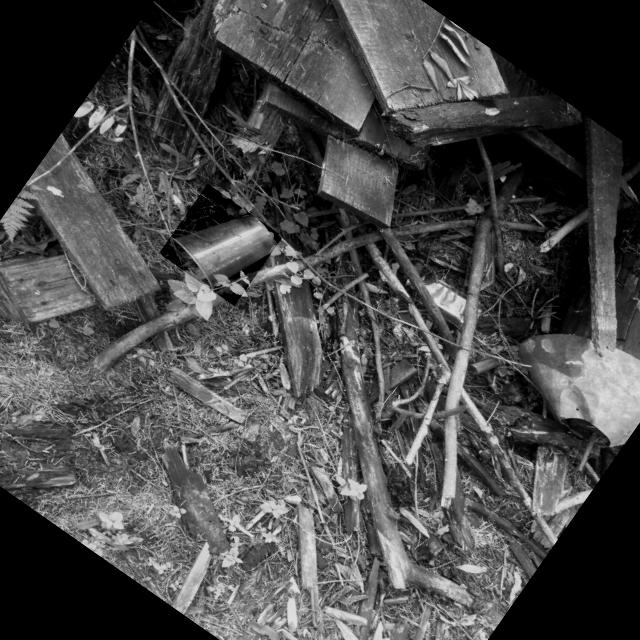Cup: (169, 215, 276, 290)
